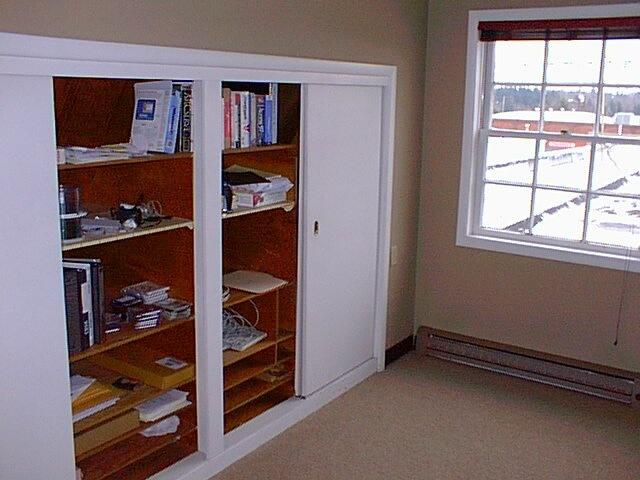Rak: (51, 74, 201, 479), (219, 79, 300, 434)
